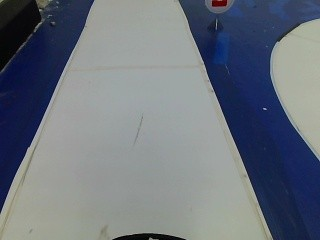company: (200, 0, 239, 16)
